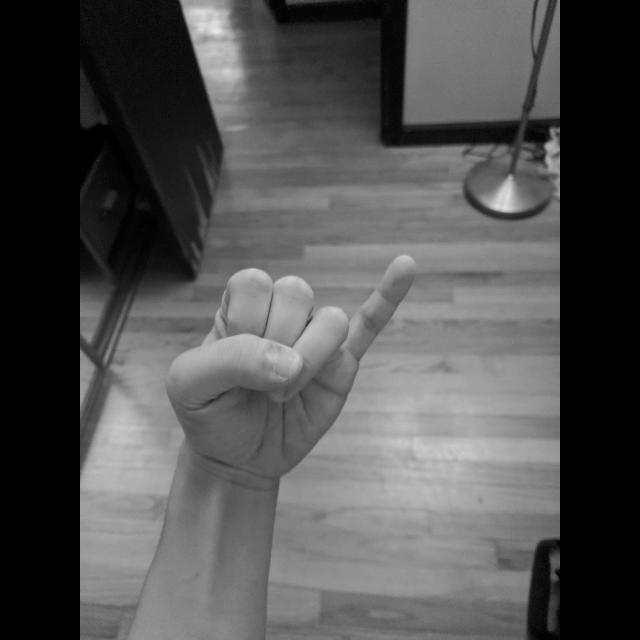I: (159, 250, 421, 488)
